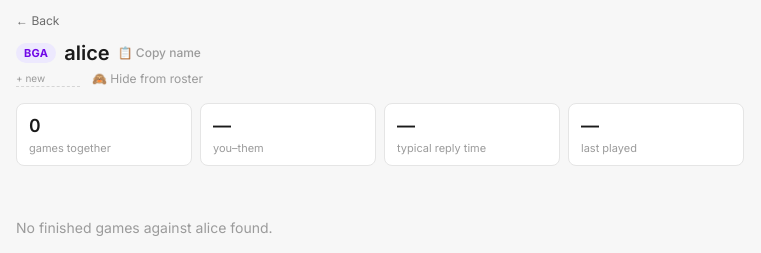
Test case: PersonDetail › copies the player's name to the clipboard so it can be pasted into an invite on the platform
Click the button "📋 Copy name".
click(159, 53)  # box x1=118 y1=45 x2=201 y2=61
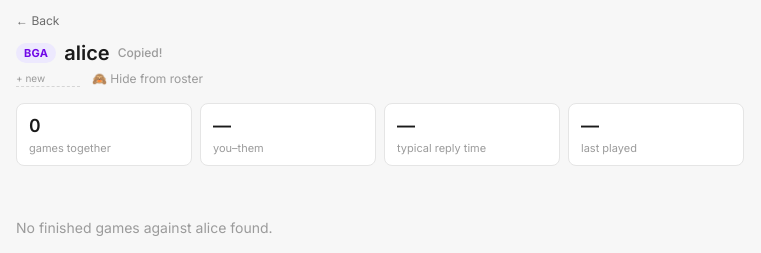
Check: the button "Copied!" is shown, box x1=118 y1=45 x2=162 y2=61
